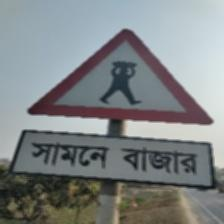Market-in-front: (25, 29, 211, 187)
